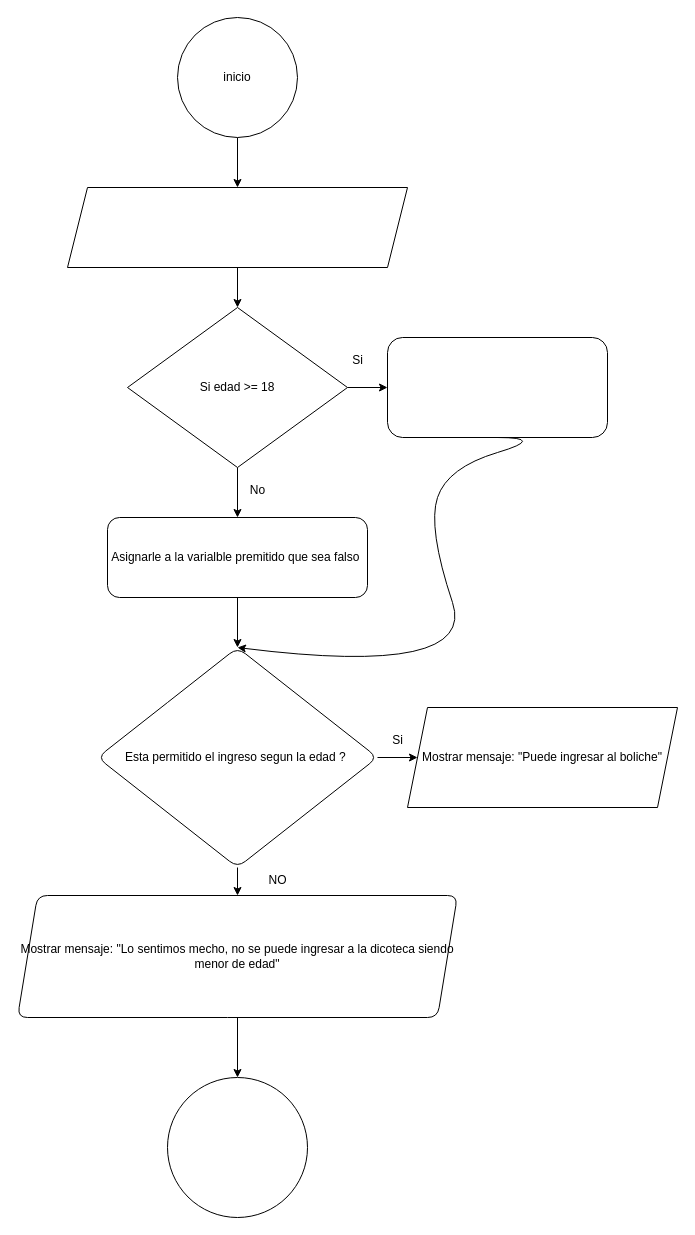
This 695x1235 diagram has some shape labels left out. Here are the shapes that lost their labels. From the top down, the centre of each, then its label:
point 237,227: Mostrar mensaje: "Por favor, ingrese la edad del cliente"
point 497,387: Asignarle a la varible permitido que sea verdadero
point 237,1147: Fin
